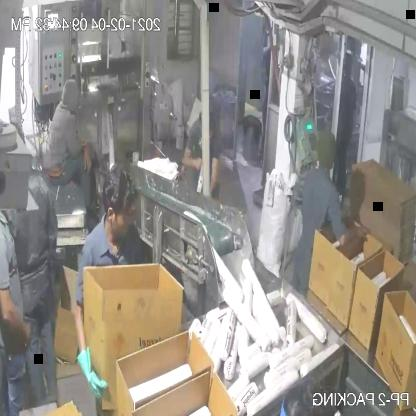glove: (69, 288, 119, 405)
no_glove: (0, 268, 31, 356), (338, 208, 379, 254), (69, 141, 93, 179), (181, 145, 204, 178), (207, 150, 220, 205)
